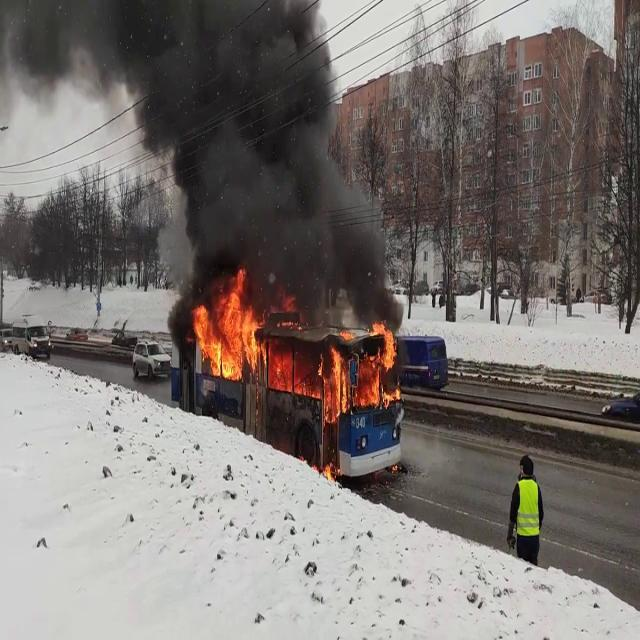Fire: (269, 312, 401, 418), (190, 274, 268, 382)
Smoke: (95, 1, 401, 311)
